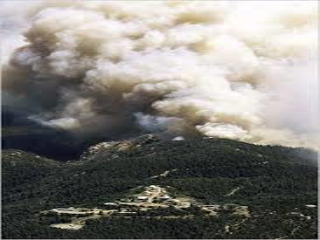smoke: (17, 11, 309, 129), (135, 31, 289, 154)
